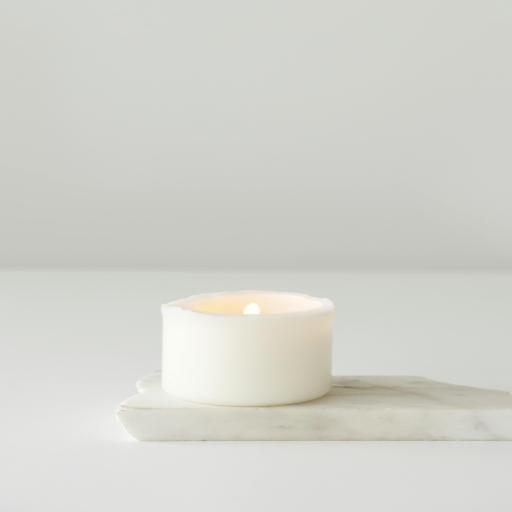candlelight: (160, 290, 338, 407)
